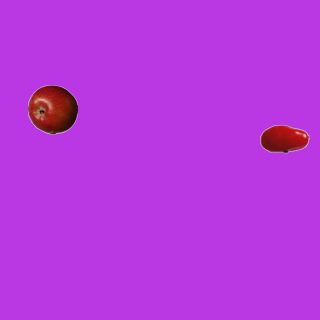Apple Braeburn: (27, 84, 77, 134)
Tomato 2: (259, 113, 309, 163)
